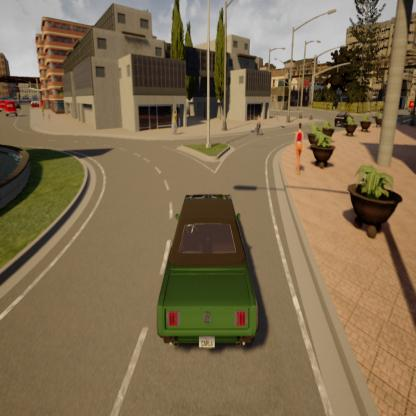Cars: (157, 194, 257, 352), (253, 108, 265, 139), (334, 110, 351, 127)
Pedestrian: (294, 122, 304, 176), (172, 109, 178, 139)
